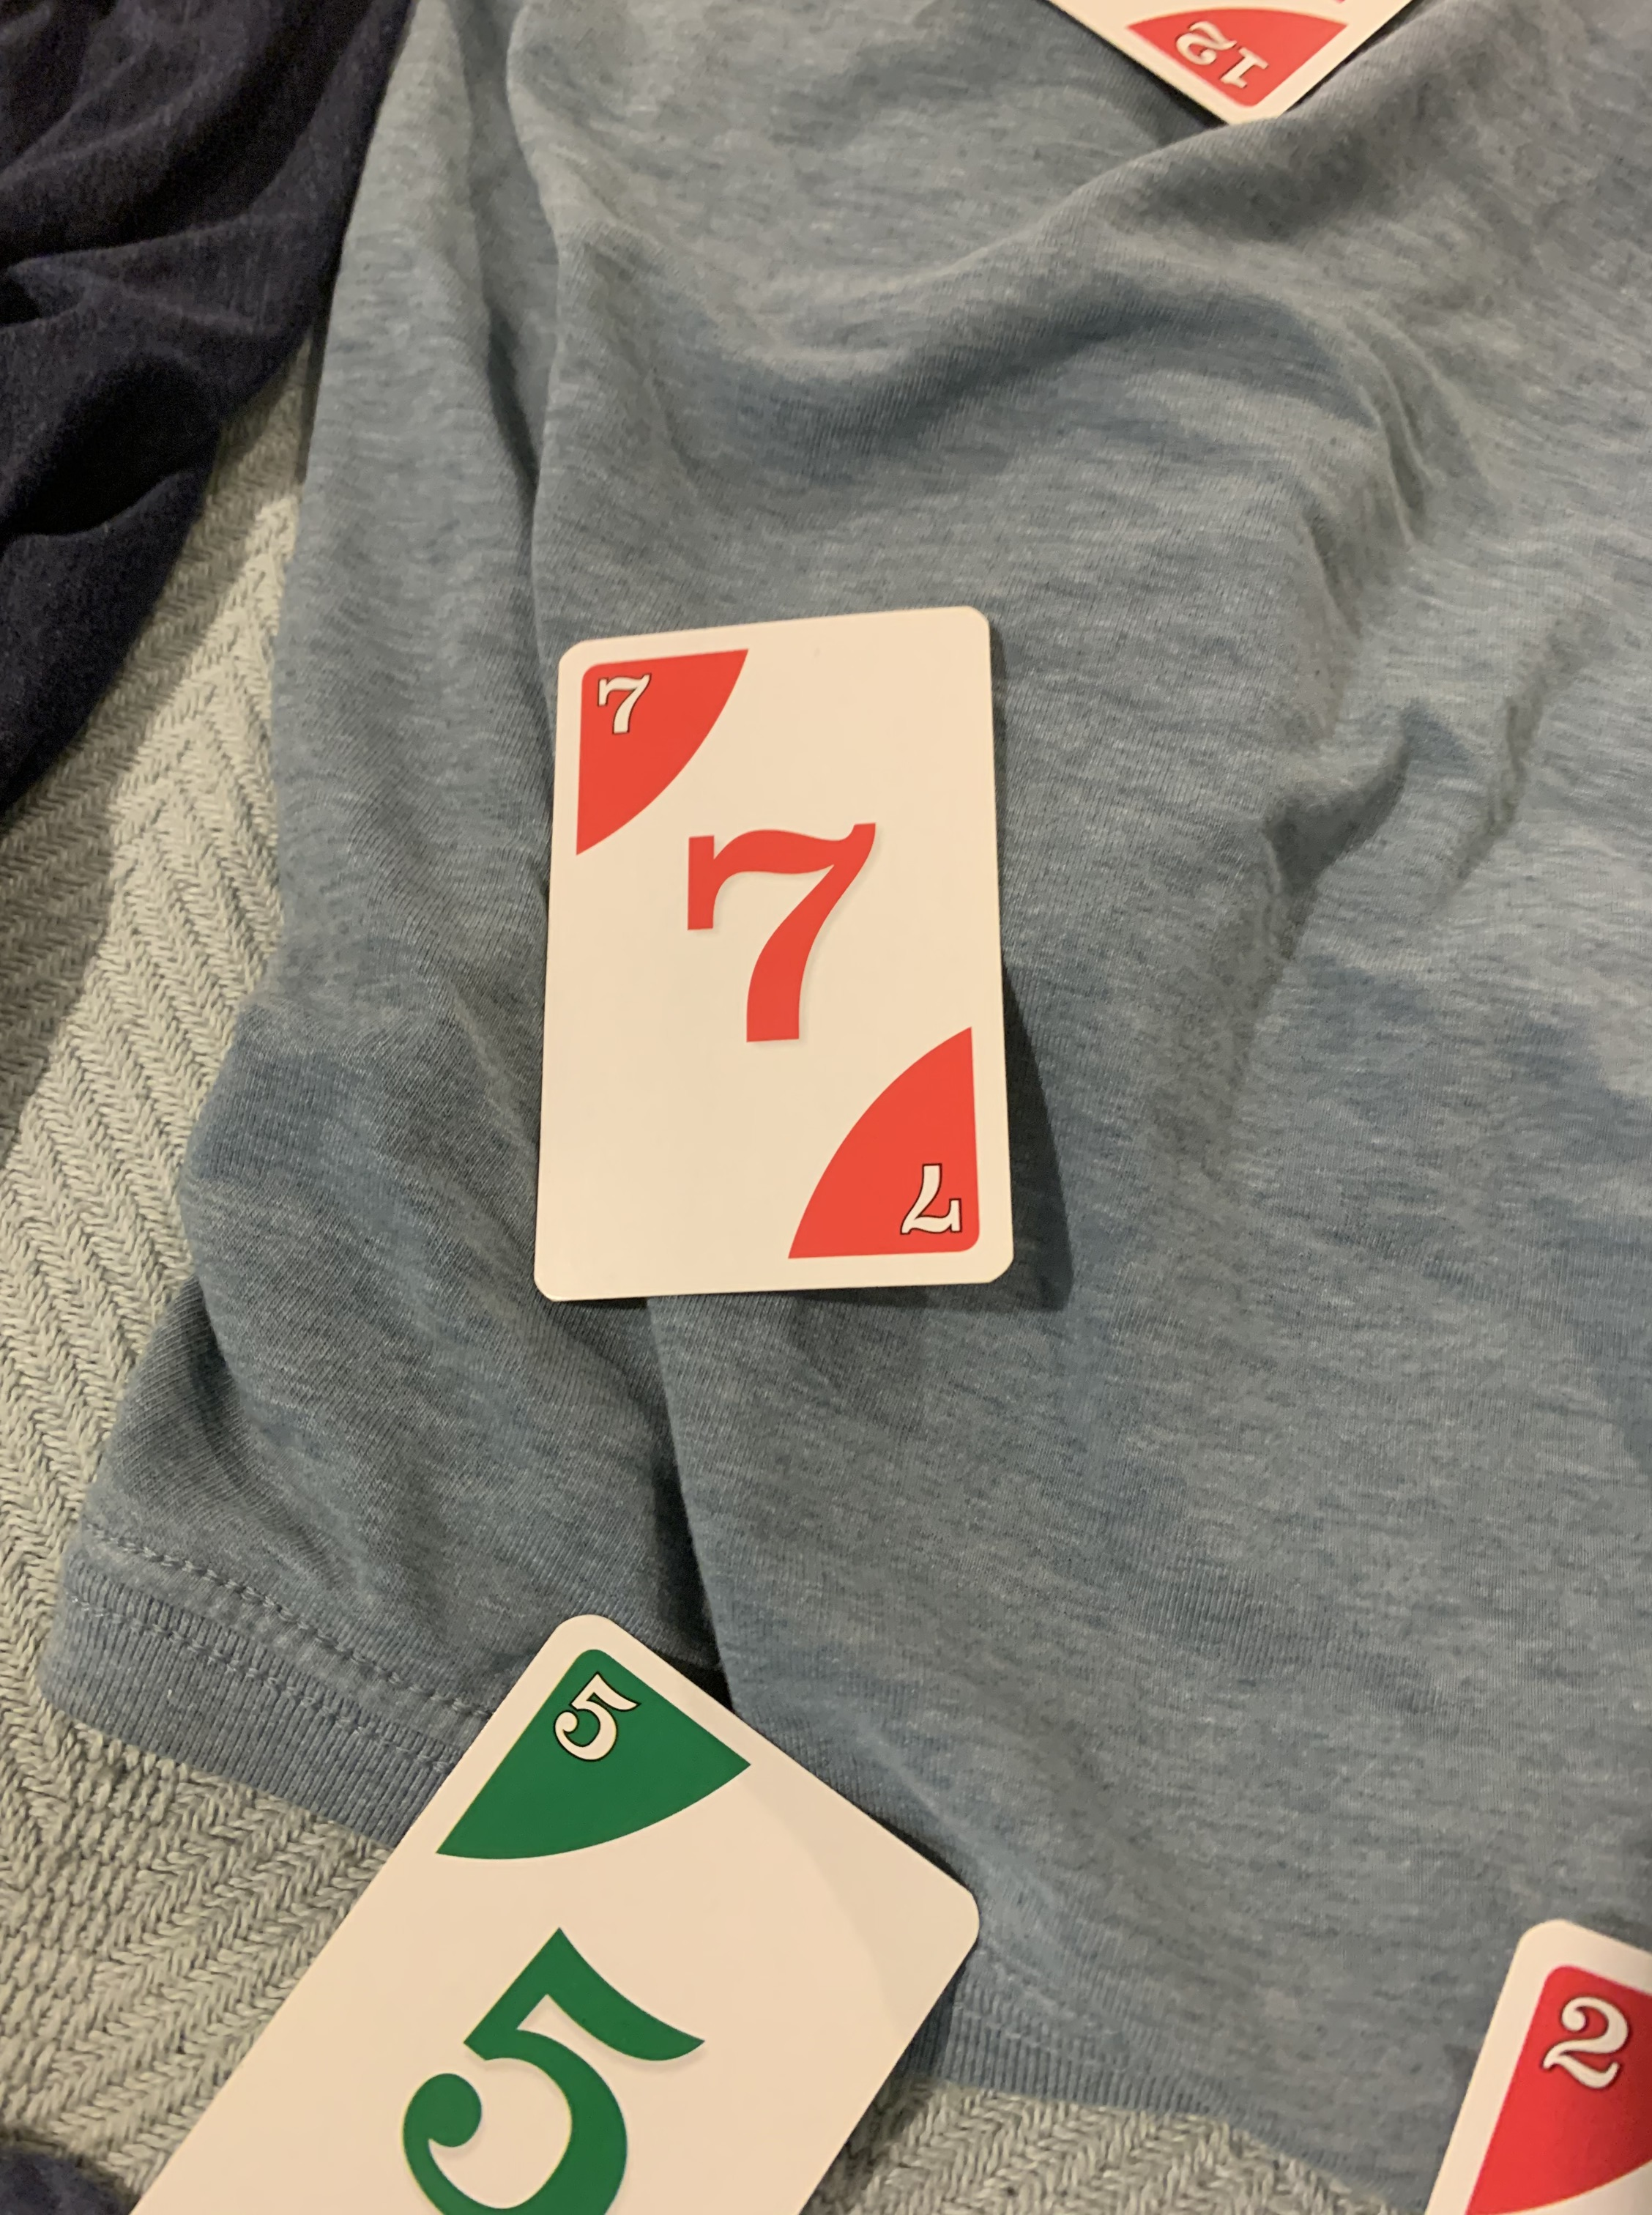five: (113, 1618, 1001, 2215)
seven: (529, 592, 1017, 1302)
